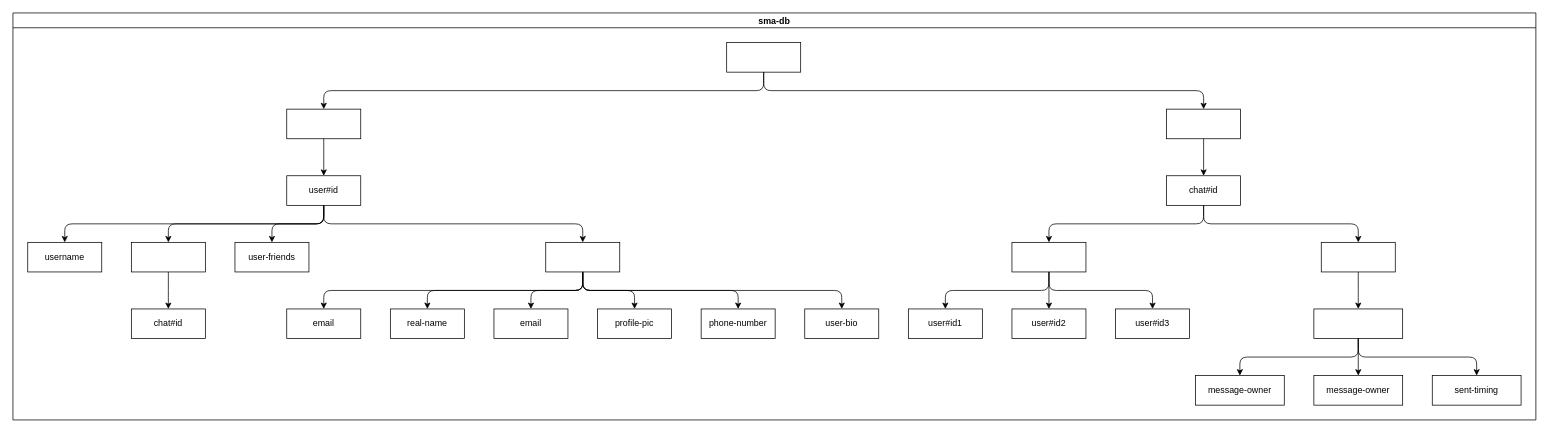
Image size: 1549x433. Some labels were removed from this diagram. Each missing label, with the box of its shape:
chat-members: (1011, 242, 1086, 272)
chats: (1166, 108, 1241, 139)
main-db: (726, 42, 801, 72)
message#id: (1313, 308, 1403, 339)
messages: (1321, 242, 1395, 272)
user-chats: (131, 242, 205, 272)
user-info: (545, 242, 620, 272)
users: (286, 108, 361, 139)
